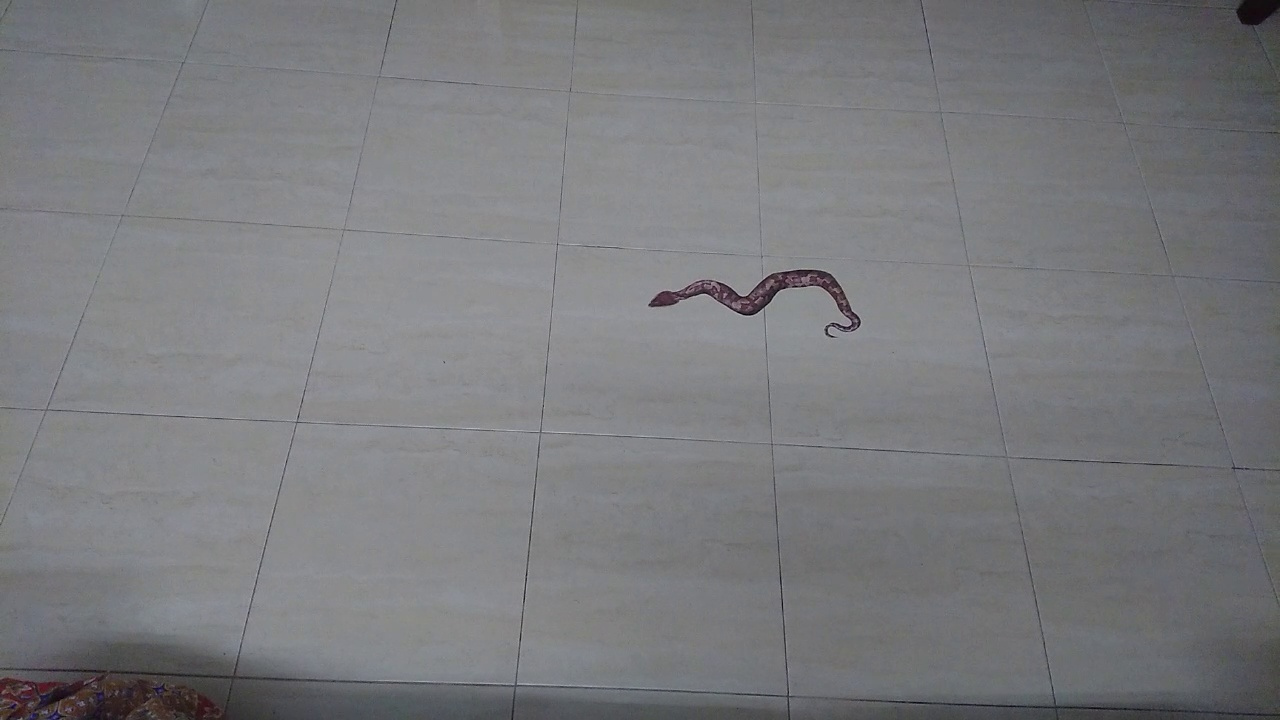snake: (633, 255, 872, 348)
